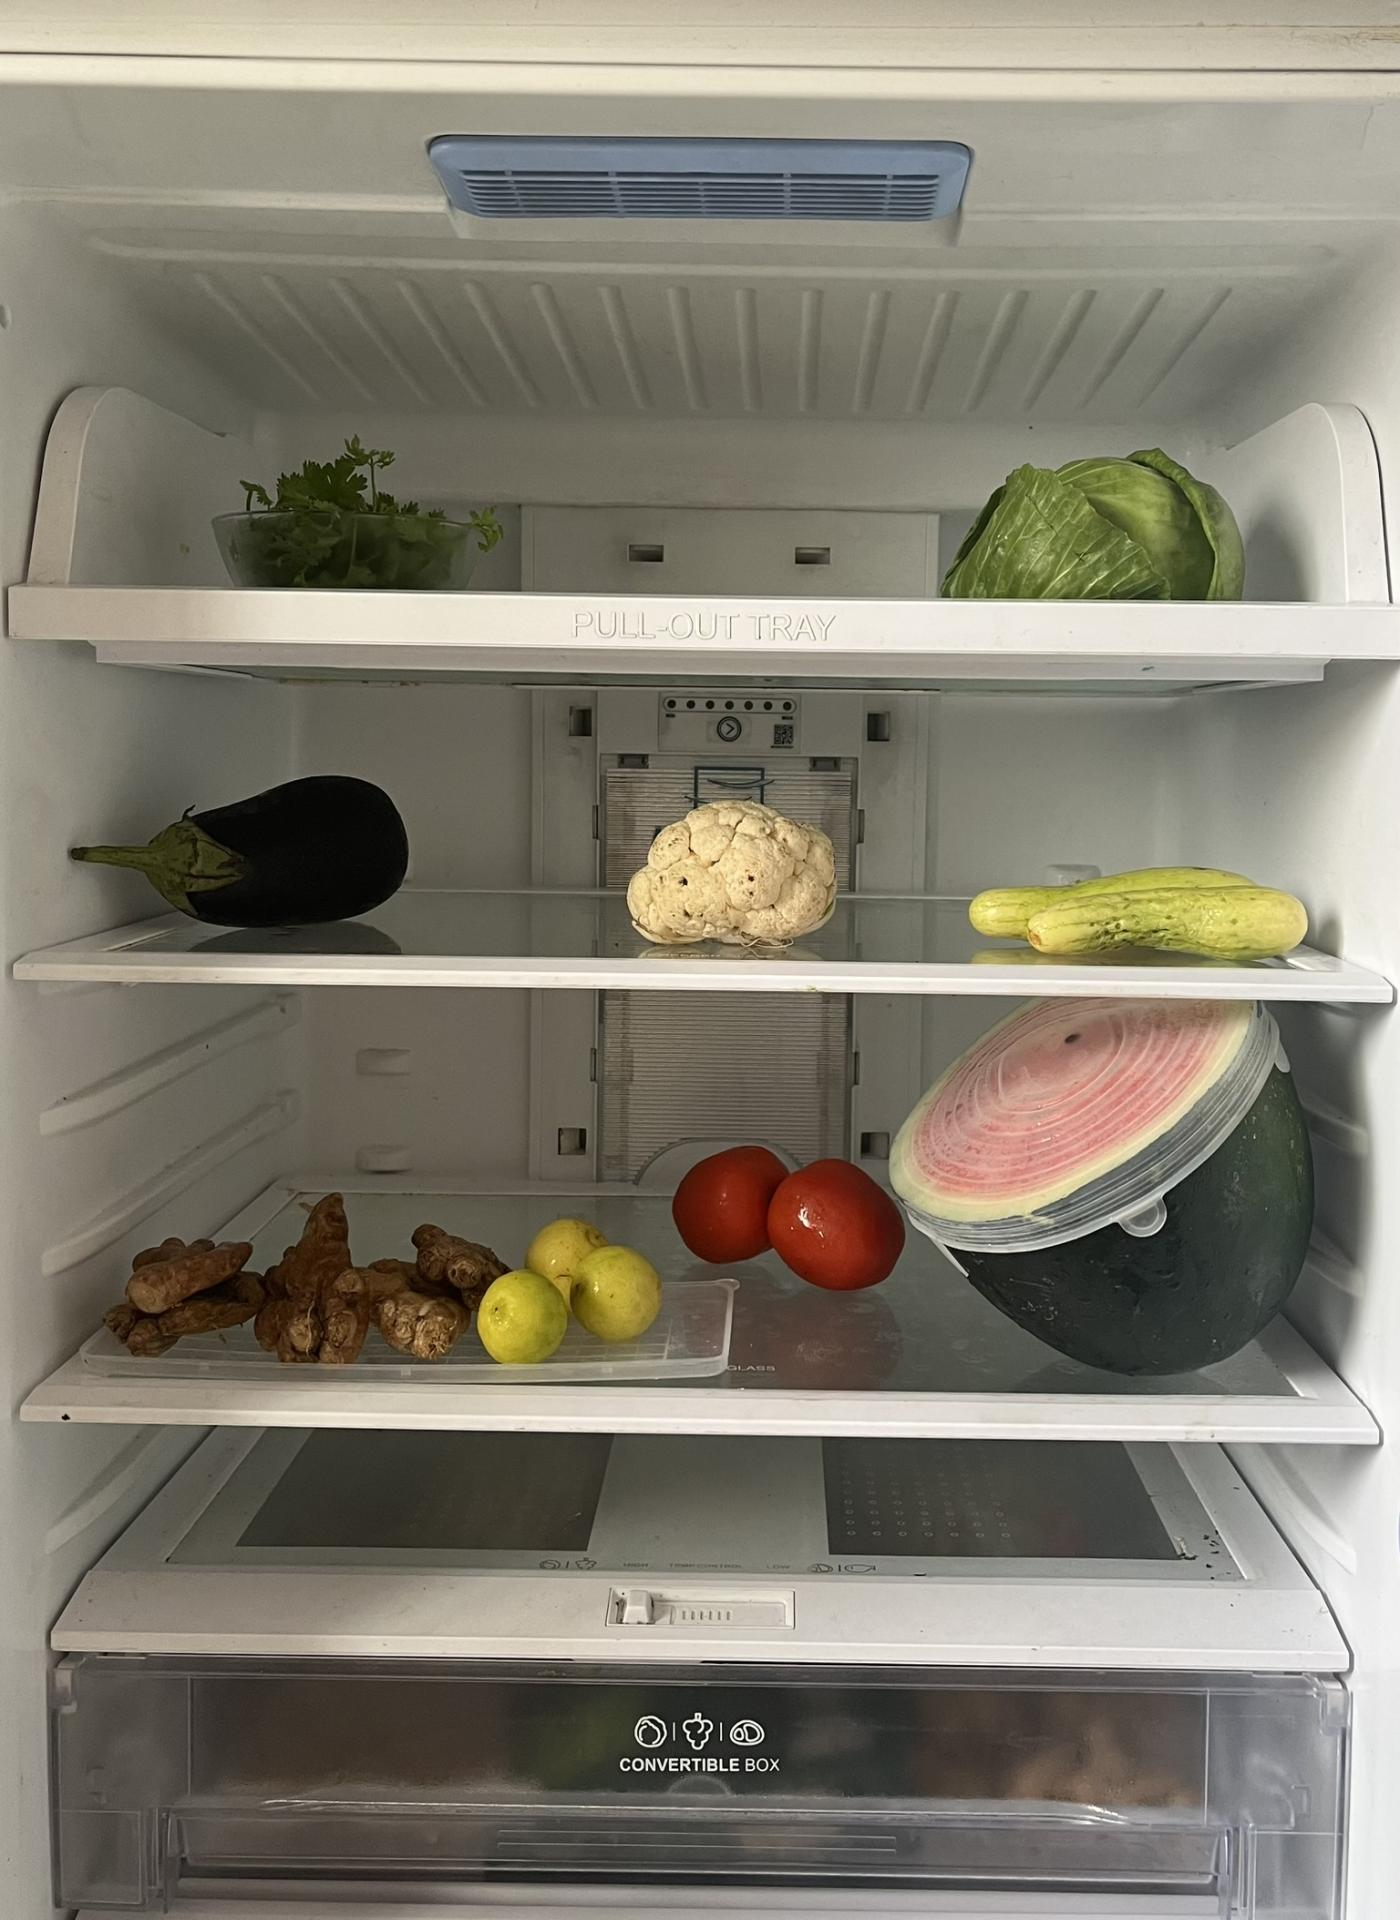cabbage: (957, 450, 1264, 599)
cauliflower: (632, 800, 845, 944)
coriander: (219, 431, 465, 578)
cucumber: (966, 869, 1312, 953)
ginger: (131, 1200, 477, 1360)
lemon: (486, 1213, 656, 1357)
tomato: (674, 1140, 899, 1285)
watermelon: (899, 991, 1315, 1379)
